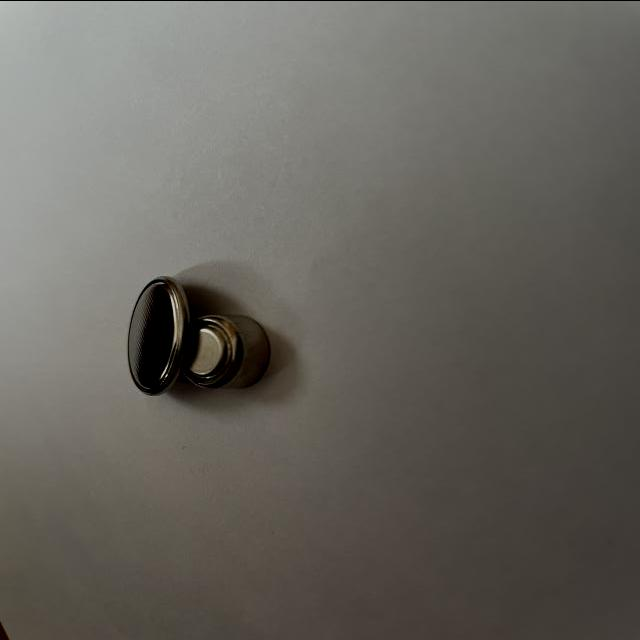COIN: (126, 274, 192, 396), (180, 310, 270, 388)
